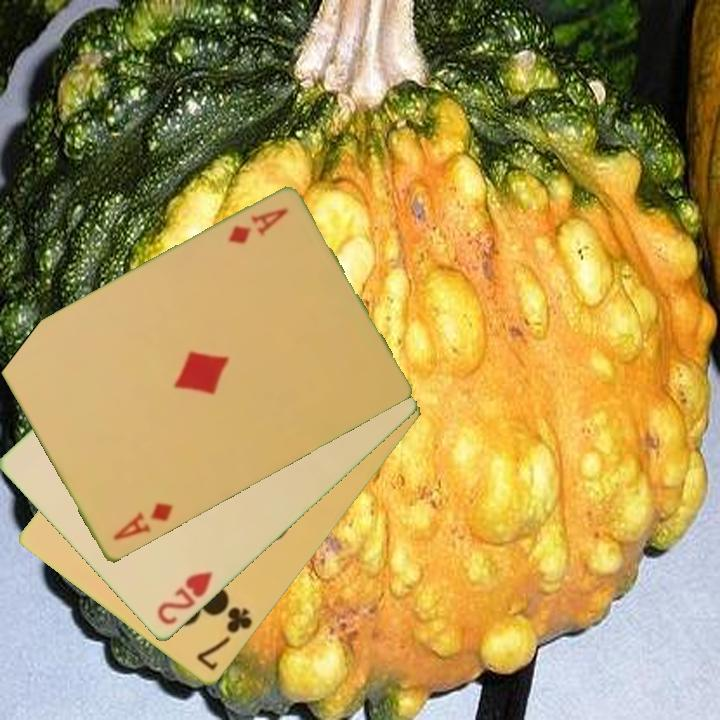2h: (153, 567, 216, 629)
7c: (193, 603, 256, 674)
Ad: (109, 499, 176, 545), (224, 205, 291, 248)
